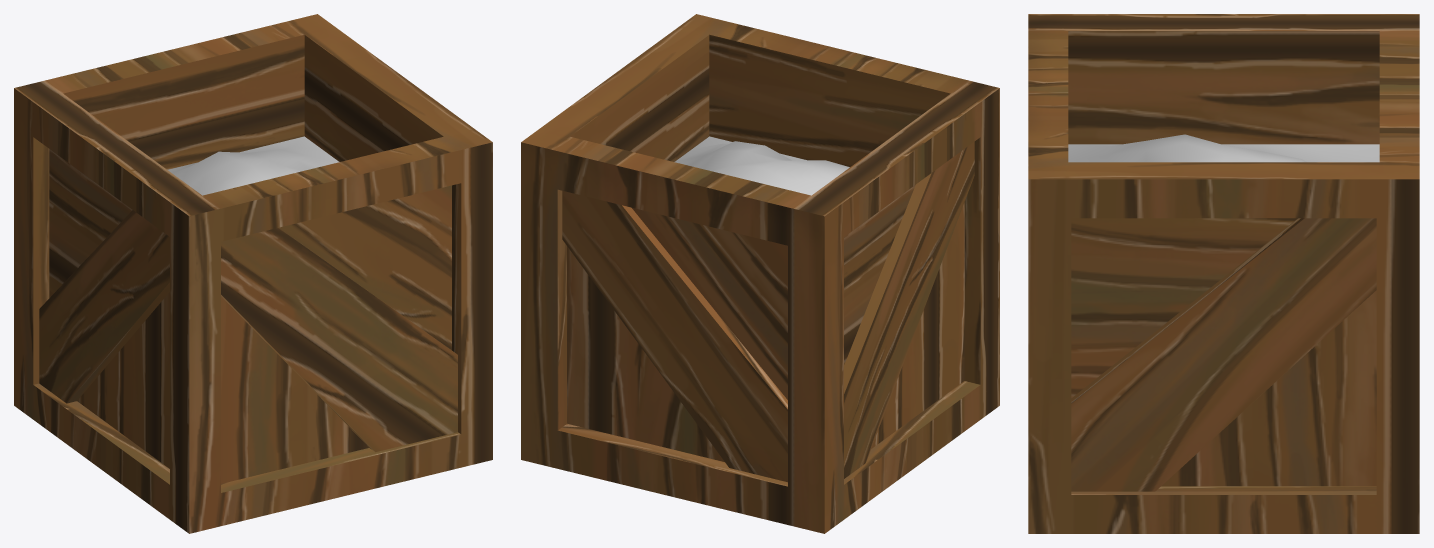
The model's file is boxed filled half.fbx.
3 renders of one model, left to right at view 1: azimuth 30°, elevation 25°; view 2: azimuth 150°, elevation 25°; view 3: azimuth 270°, elevation 25°, orthographic. The views are drawn at different scales.
Parts seen in each view (by area): view 1: Cube.169, Cube.168; view 2: Cube.169, Cube.168; view 3: Cube.169, Cube.168.
Part boxes in pixels (box(x1,y1,x2,y2)): Cube.169: box(14, 14, 492, 533); Cube.168: box(167, 136, 339, 195); Cube.169: box(521, 14, 999, 533); Cube.168: box(674, 136, 849, 195); Cube.169: box(1028, 14, 1419, 533); Cube.168: box(1068, 134, 1379, 162).
Size of the model in its own units: 325 by 325 by 325.
